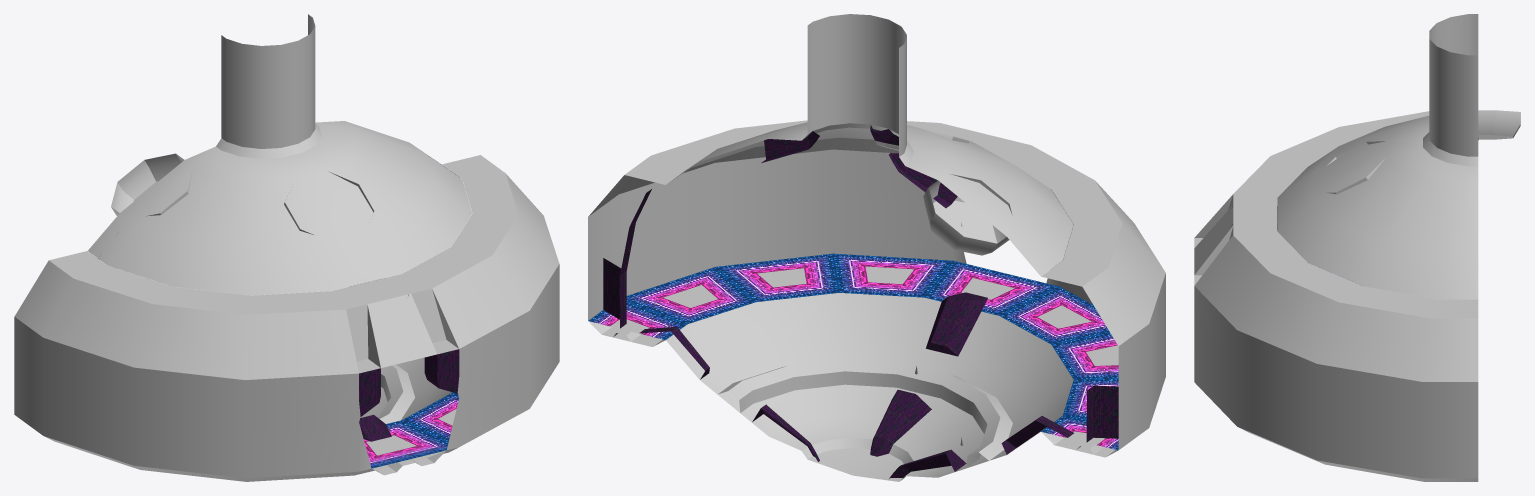
Rendered from cbscom00.fbx.
3 views of the same model, side by side, from view 1: azimuth 30°, elevation 25°; view 2: azimuth 150°, elevation 25°; view 3: azimuth 270°, elevation 25° (orthographic). The views are drawn at different scales.
Visible parts, largest first — view 1: obj61, obj7, obj64__2, obj12, obj65_1, terrain, obj6, sphere1, obj645; view 2: obj61, terrain, obj64__2, obj7, obj6, obj647, obj65_1, obj645, beamlower2, beamlower1, sphere1, obj646; view 3: obj61, obj7, obj65_1, sphere1, obj65_2.
Part boxes in pixels (x1,y1,x2,y2): obj61: (14,155,559,478); obj7: (88,14,472,295); obj64__2: (363,392,458,468); obj12: (359,349,459,416); obj65_1: (111,153,192,216); terrain: (360,357,451,420); obj6: (378,364,414,423); sphere1: (44,436,458,481); obj645: (359,414,391,441); obj61: (588,120,1165,449); terrain: (666,293,1073,481); obj64__2: (588,253,1118,450); obj7: (669,14,1073,276); obj6: (718,359,1012,467); obj647: (752,125,966,478); obj65_1: (923,174,1012,255); obj645: (926,292,987,356); beamlower2: (1086,385,1118,442); beamlower1: (603,258,626,328); sphere1: (588,321,1118,457); obj646: (1001,416,1073,454); obj61: (1194,111,1478,478); obj7: (1277,14,1478,299); obj65_1: (1478,110,1520,139); sphere1: (1238,427,1478,481); obj65_2: (1327,141,1385,194).
Bounding box in the file's own units: 320 × 253 × 184.
